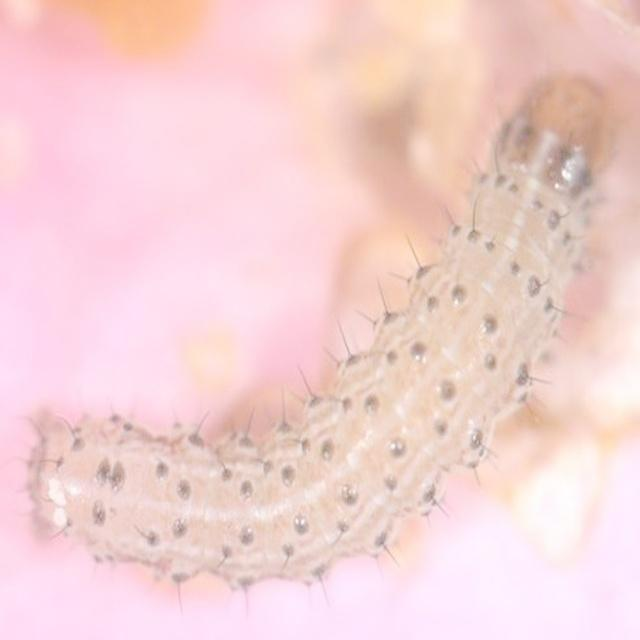Plaga: (24, 60, 614, 600)
